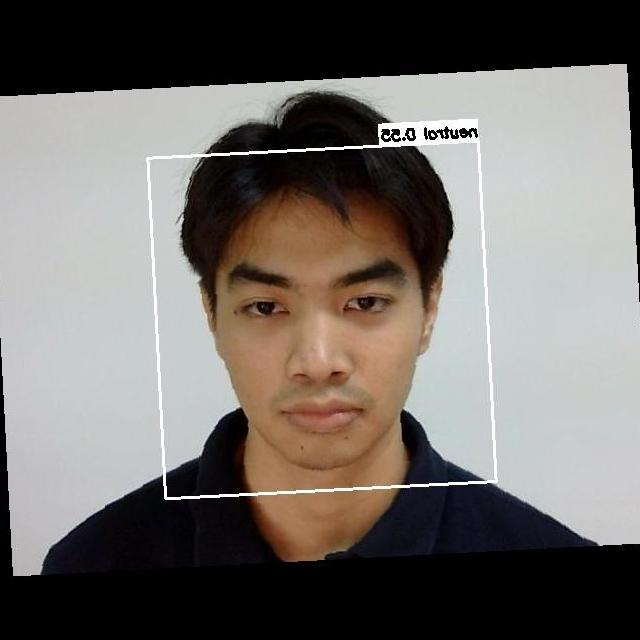Natural: (212, 231, 427, 450)
